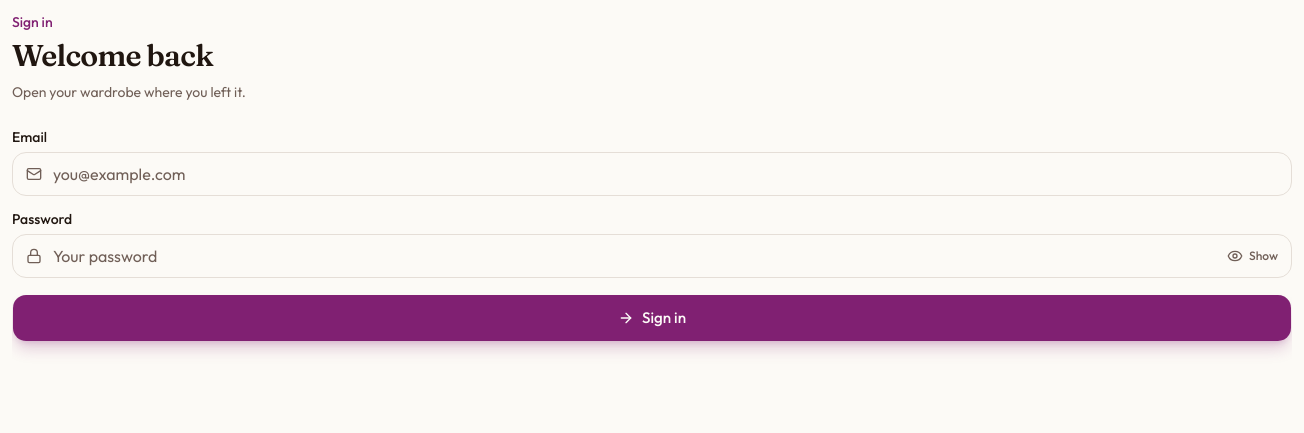
it: LoginPage › keeps the server's refusal on the page, not only in a toast
This screenshot has width=1304, height=433.
Type "ayesha@example.test" into the field labelled "Email". click: (652, 174)
box: [12,152,1292,196]
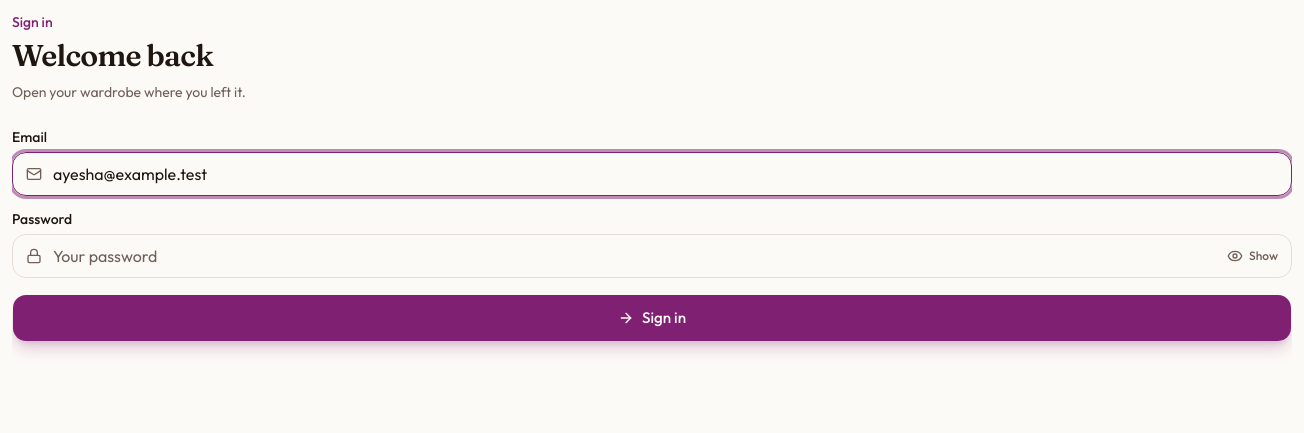
Type "wrong" into the password field labelled "Password". click: (652, 256)
box: [12,234,1292,278]
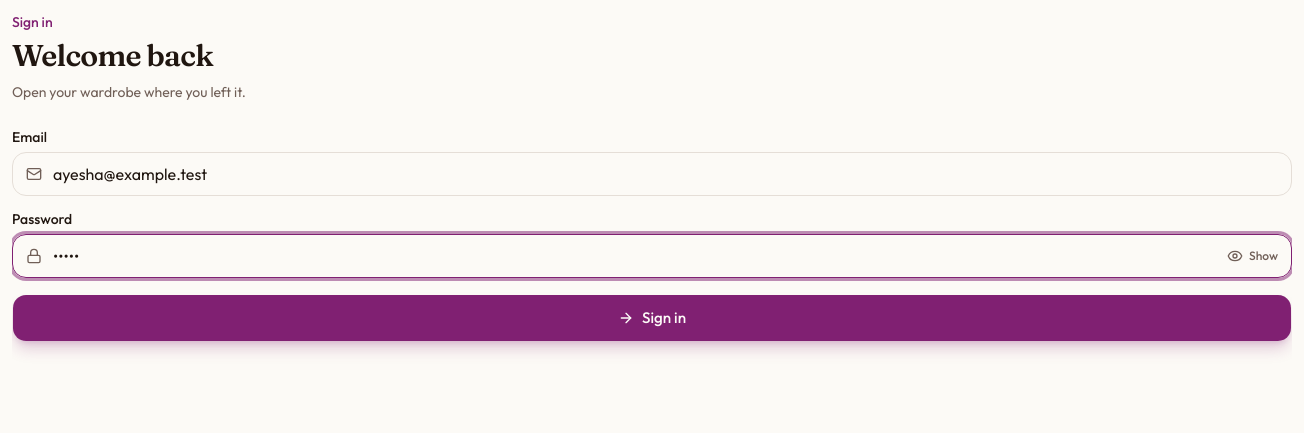
Click the button "Sign in". click: (652, 318)
box: [12,294,1292,342]
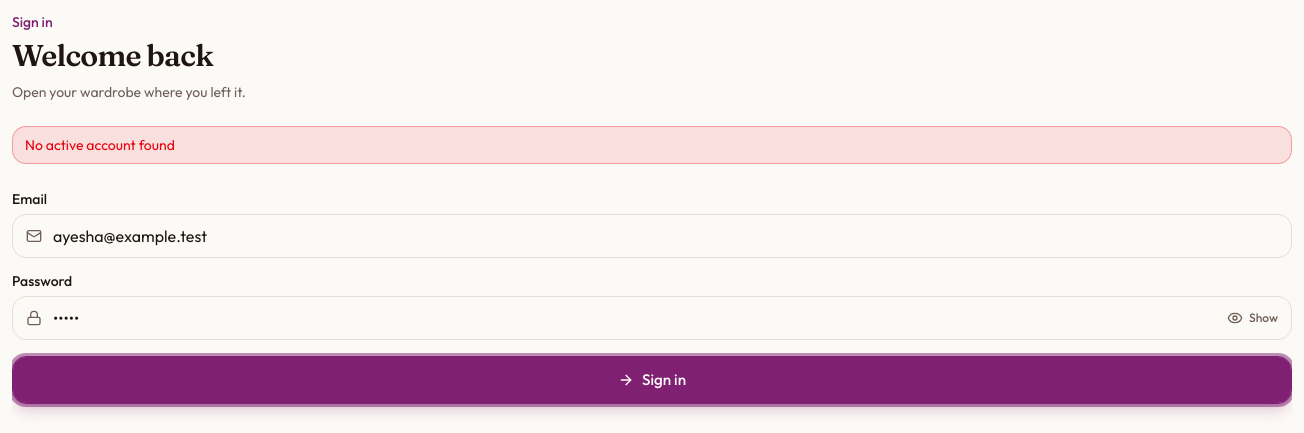
expect the message reads "No active account found": met, box [25,136,175,154]
